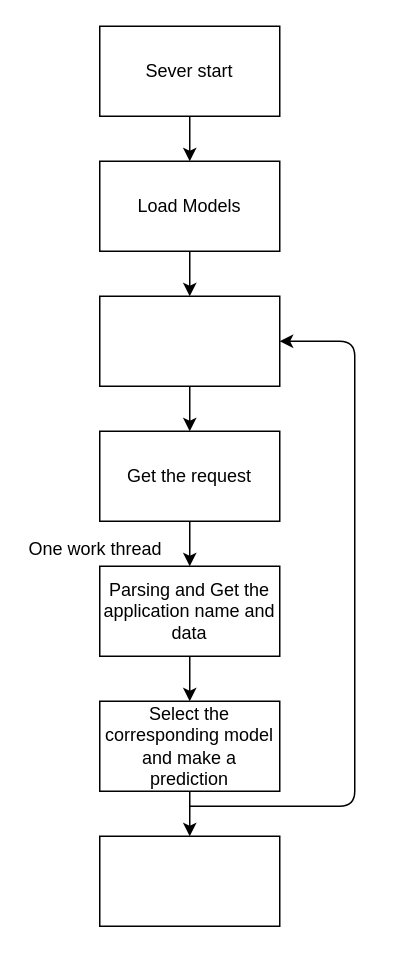
Image size: 393x953. Some labels were removed from this diagram. The shapes that lost their labels are listed below. From the top down, each one's box as (x1, y1, x2, y2) in pixels, then its label:
(98, 295, 280, 386): Listen the port
(98, 835, 280, 926): Return result
